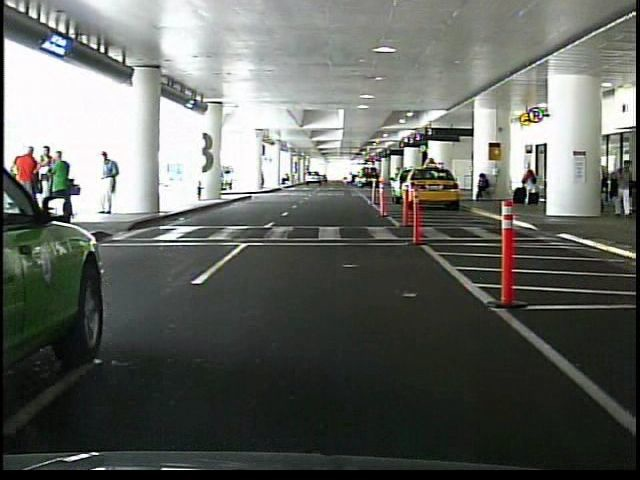person: (52, 151, 77, 231), (18, 145, 42, 222), (99, 151, 123, 217), (610, 155, 635, 218), (43, 144, 58, 212), (522, 160, 539, 207), (475, 171, 494, 202)
